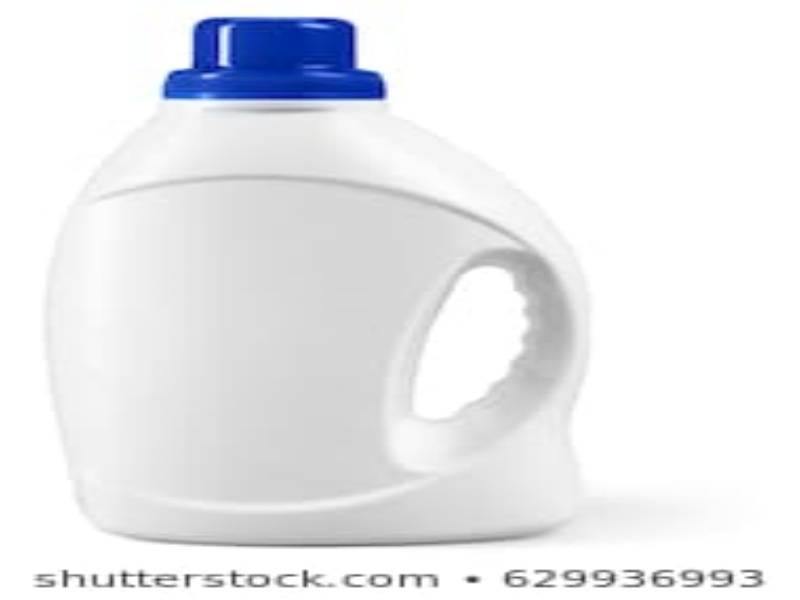bottle-cap: (150, 17, 393, 104)
detergent-bottle: (41, 16, 602, 546)
